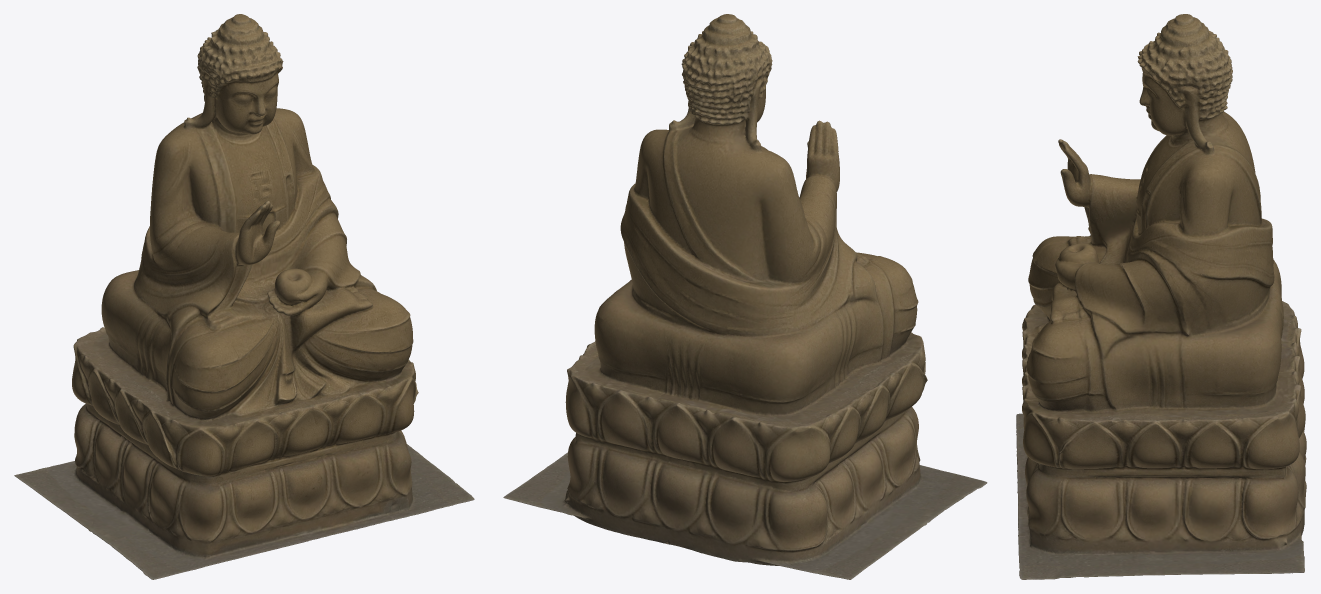
File: golden-buddha.glb
3 renders of one model, left to right at view 1: azimuth 30°, elevation 25°; view 2: azimuth 150°, elevation 25°; view 3: azimuth 270°, elevation 25°, orthographic. The views are drawn at different scales.
Size of the model in its own units: 1.41 by 1.9 by 1.03.
Materials: 1 (1 with a texture image).
